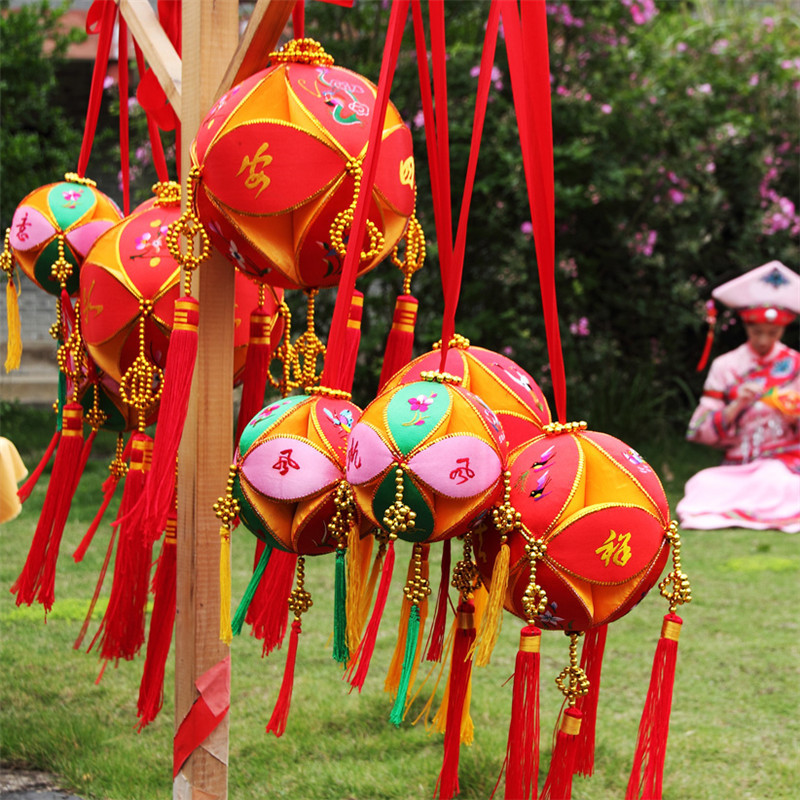xiuqiu: (192, 63, 416, 293), (490, 432, 667, 631)
